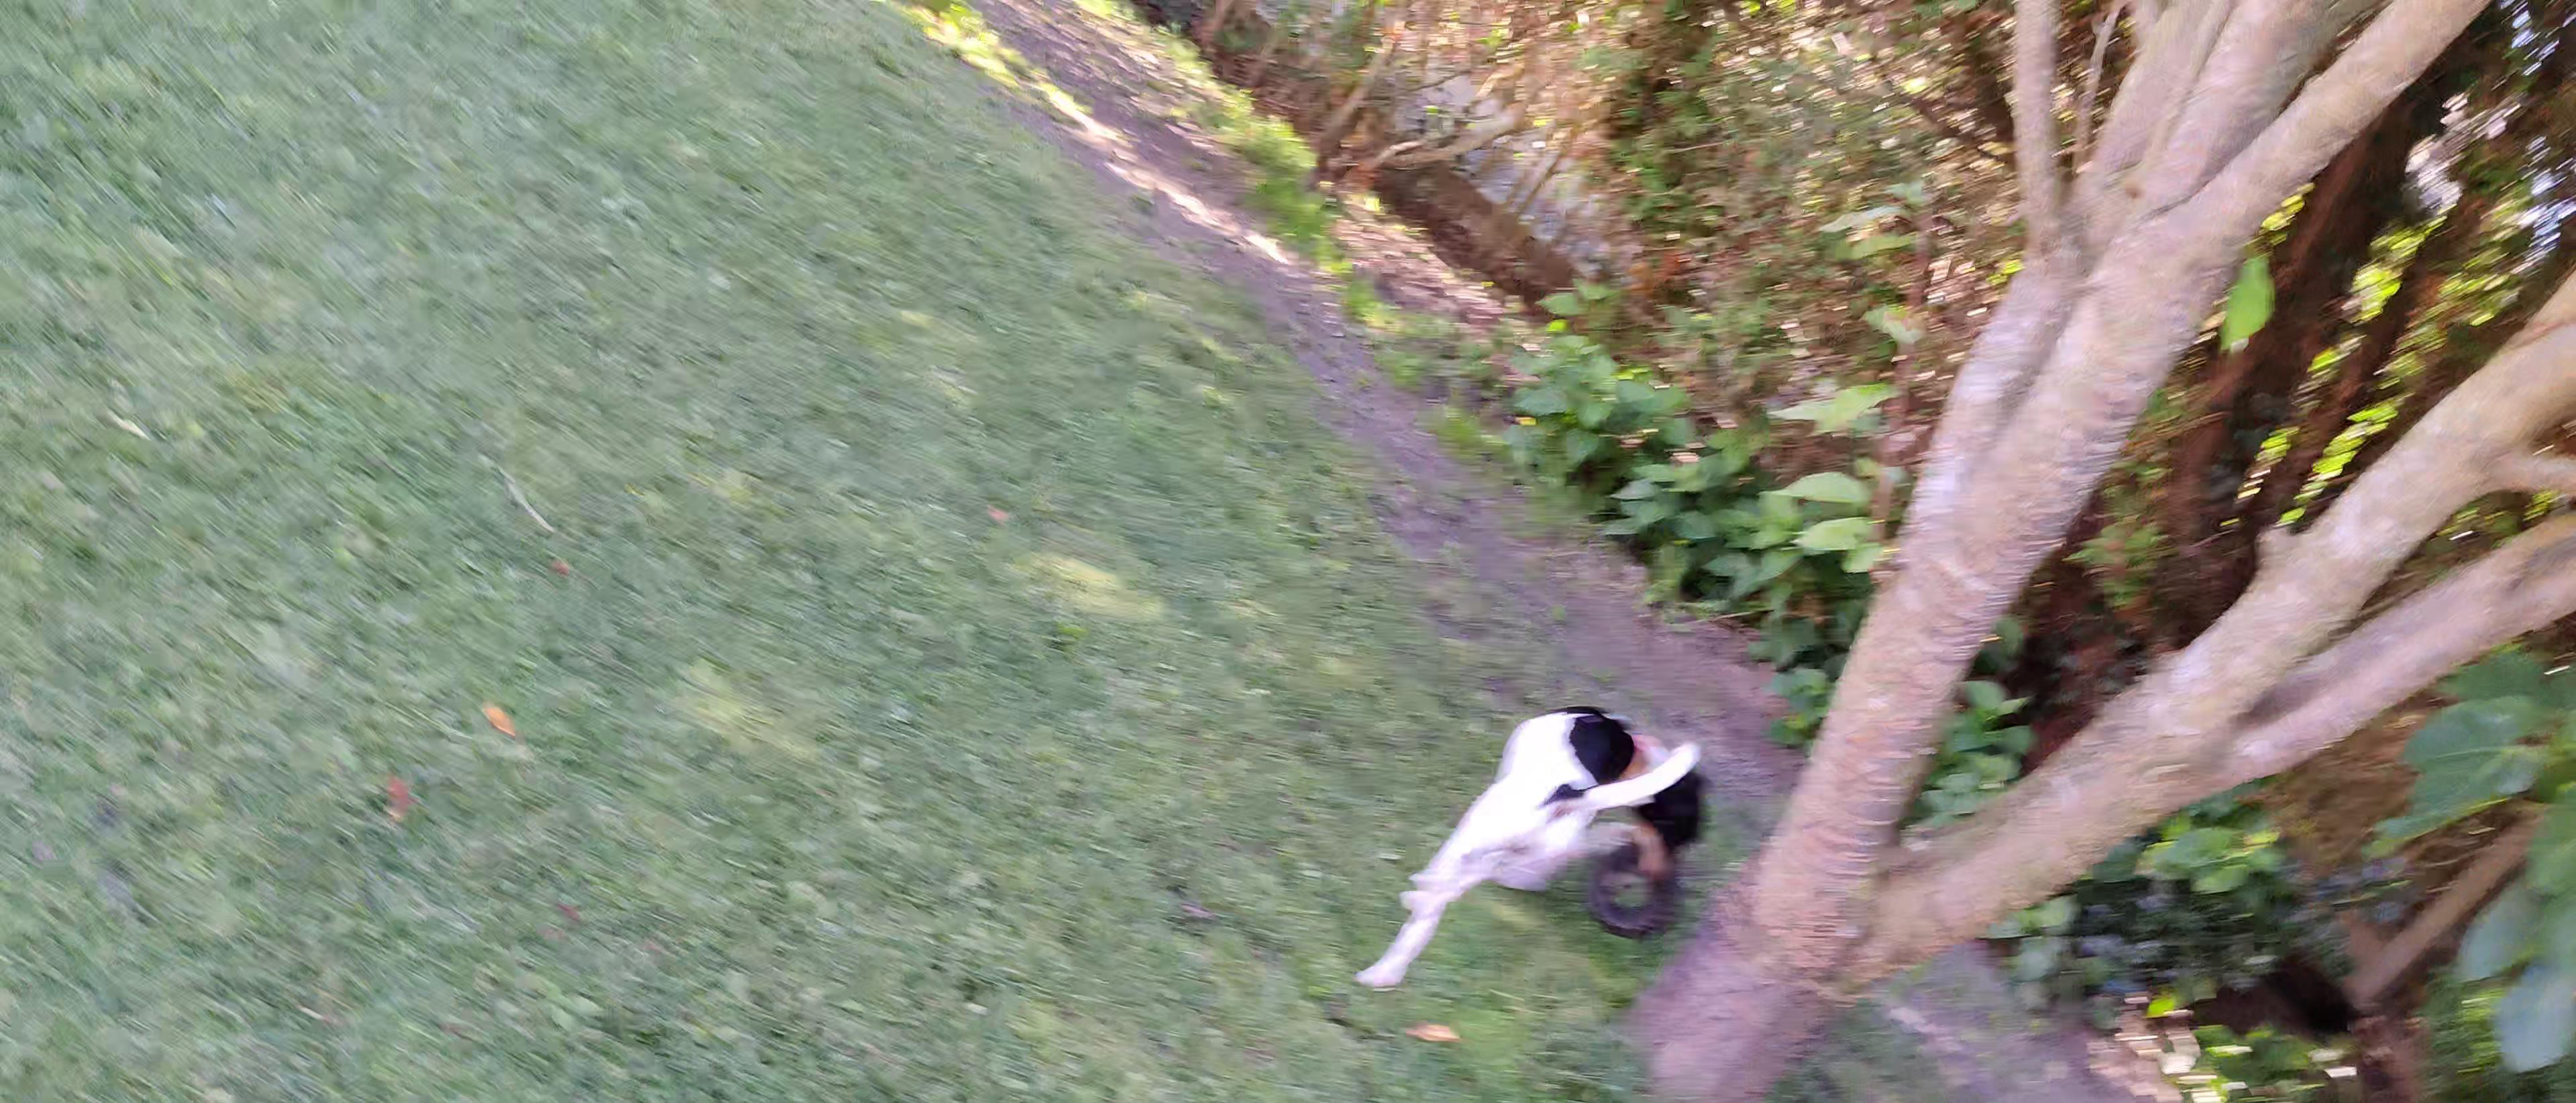Dog: (1341, 694, 1717, 999)
